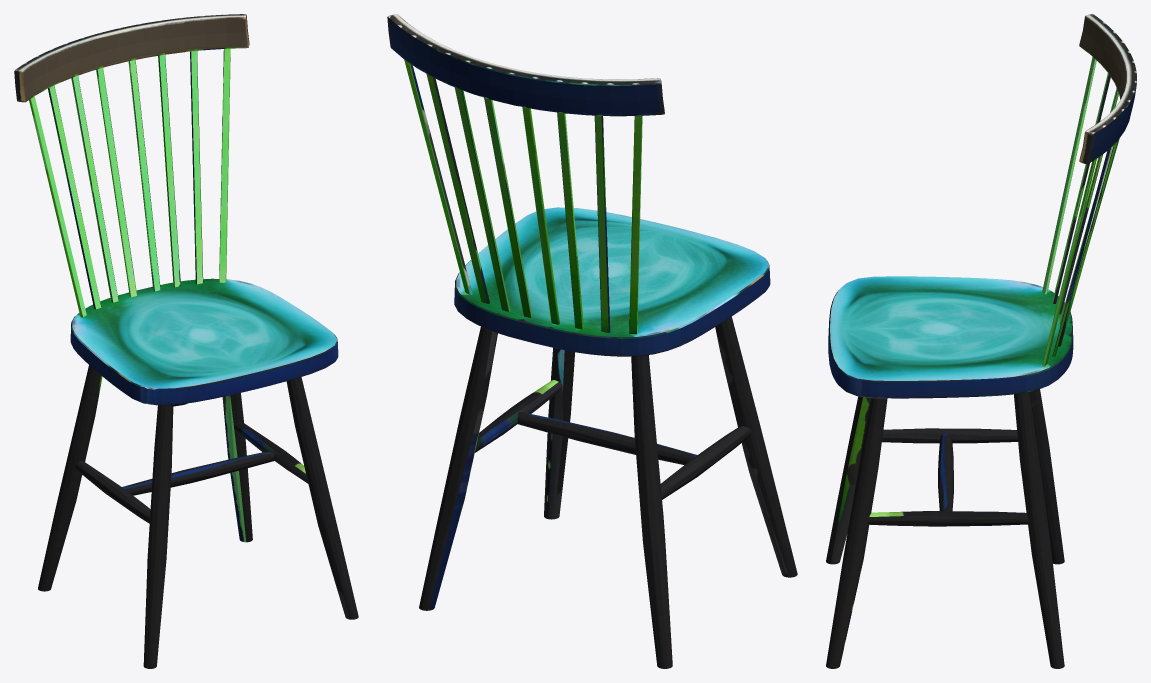
Rendered from edited_mesh.glb.
The picture shows the model from 3 angles, left to right: view 1: azimuth 30°, elevation 25°; view 2: azimuth 150°, elevation 25°; view 3: azimuth 270°, elevation 25°; orthographic projection. The views are drawn at different scales.
Parts seen in each view (by area): view 1: normalized_model.obj; view 2: normalized_model.obj; view 3: normalized_model.obj.
Part boxes in pixels (x1=…): normalized_model.obj: x1=14, y1=14, x2=358, y2=668; normalized_model.obj: x1=387, y1=14, x2=797, y2=668; normalized_model.obj: x1=826, y1=14, x2=1136, y2=668.
Size of the model in its own units: 0.7566 by 1.59 by 0.8261.
Materials: 1 (1 with a texture image).
